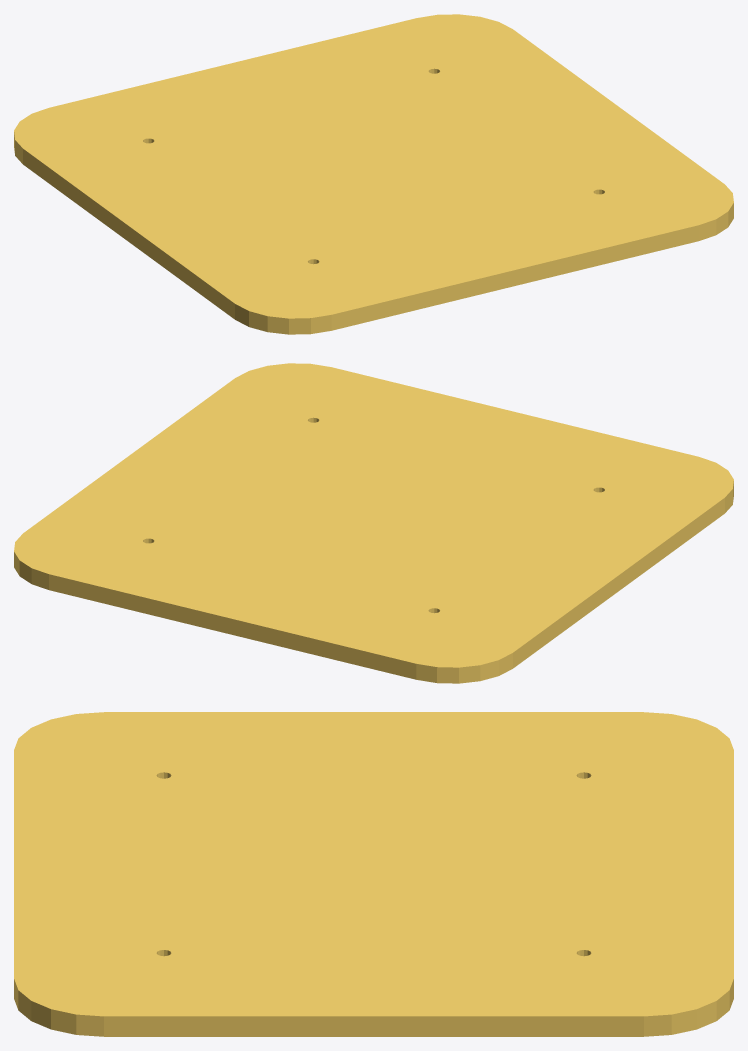
Rendered from robot_base_v1.dae.
3 renders of one model, top to bottom at view 1: azimuth 30°, elevation 25°; view 2: azimuth 150°, elevation 25°; view 3: azimuth 270°, elevation 25°, orthographic. The views are drawn at different scales.
Visible parts, largest first — view 1: robot_base; view 2: robot_base; view 3: robot_base.
Boxes of the visible parts, x1,y1,x2,y2 form: robot_base: (14,14,733,334); robot_base: (14,363,733,683); robot_base: (14,712,733,1036).
Size of the model in its own units: 0.6096 by 0.6096 by 0.019.
